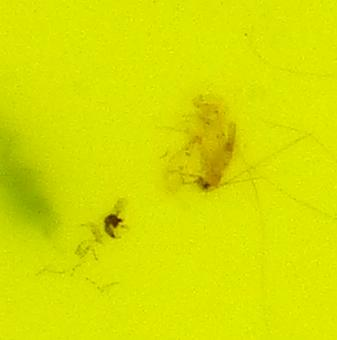Nematocera: (100, 202, 125, 240)
Plecoptera: (184, 100, 237, 194)
